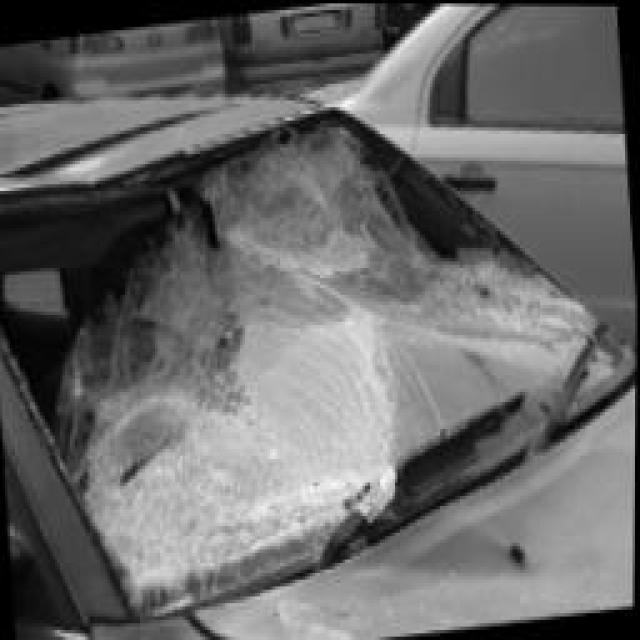Windshield: (0, 74, 639, 601)
